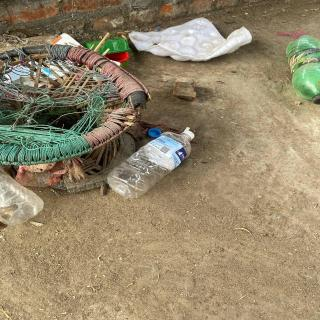Plastic-bottle: (105, 129, 202, 203), (284, 34, 320, 112)
